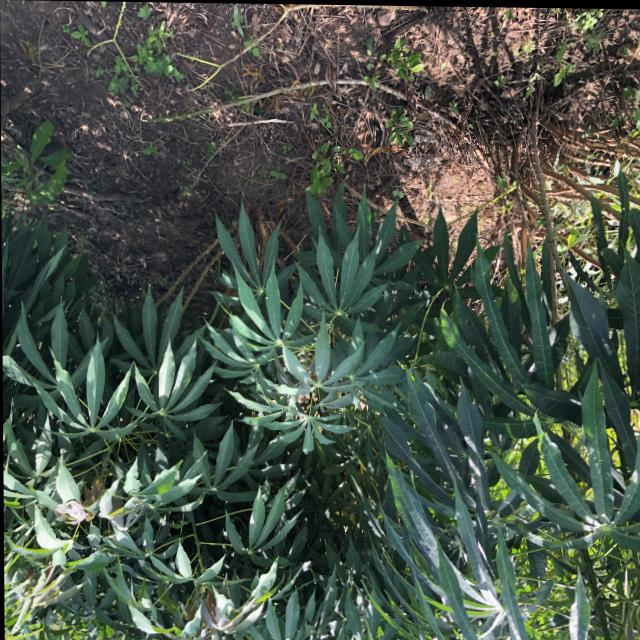Mosca: (408, 368, 417, 387), (286, 318, 297, 328), (261, 293, 269, 301)
